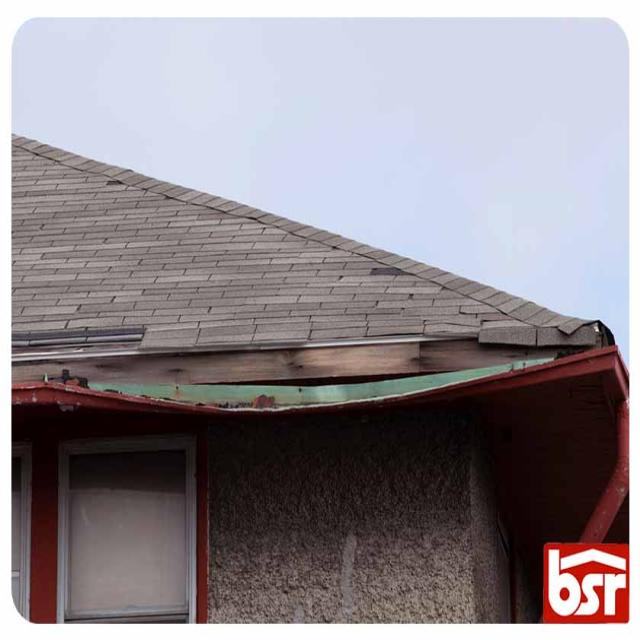House: (11, 134, 632, 626)
